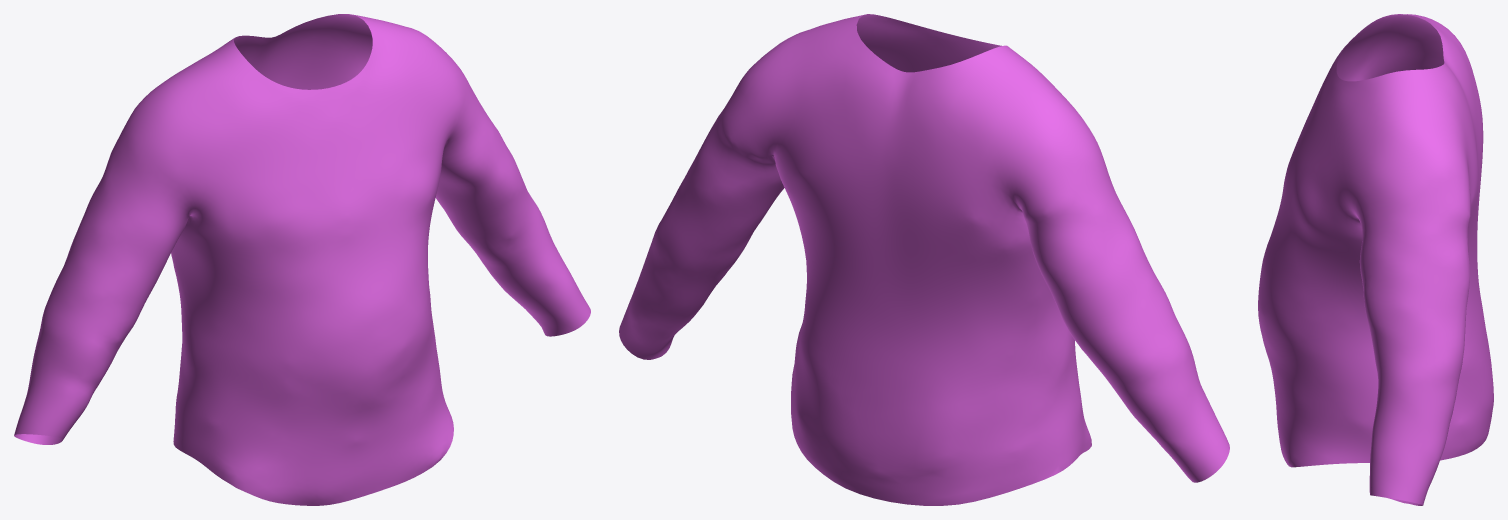
File: Male-X-Large-Shirt.glb
3 views of the same model, side by side, from view 1: azimuth 30°, elevation 25°; view 2: azimuth 150°, elevation 25°; view 3: azimuth 270°, elevation 25° (orthographic). The views are drawn at different scales.
Parts seen in each view (by area): view 1: Group1.032; view 2: Group1.032; view 3: Group1.032.
Part boxes in pixels (x1,y1,x2,y2): Group1.032: (14, 14, 590, 505); Group1.032: (619, 14, 1229, 505); Group1.032: (1258, 14, 1493, 505).
Size of the model in its own units: 1.83 by 1.29 by 0.6914.
